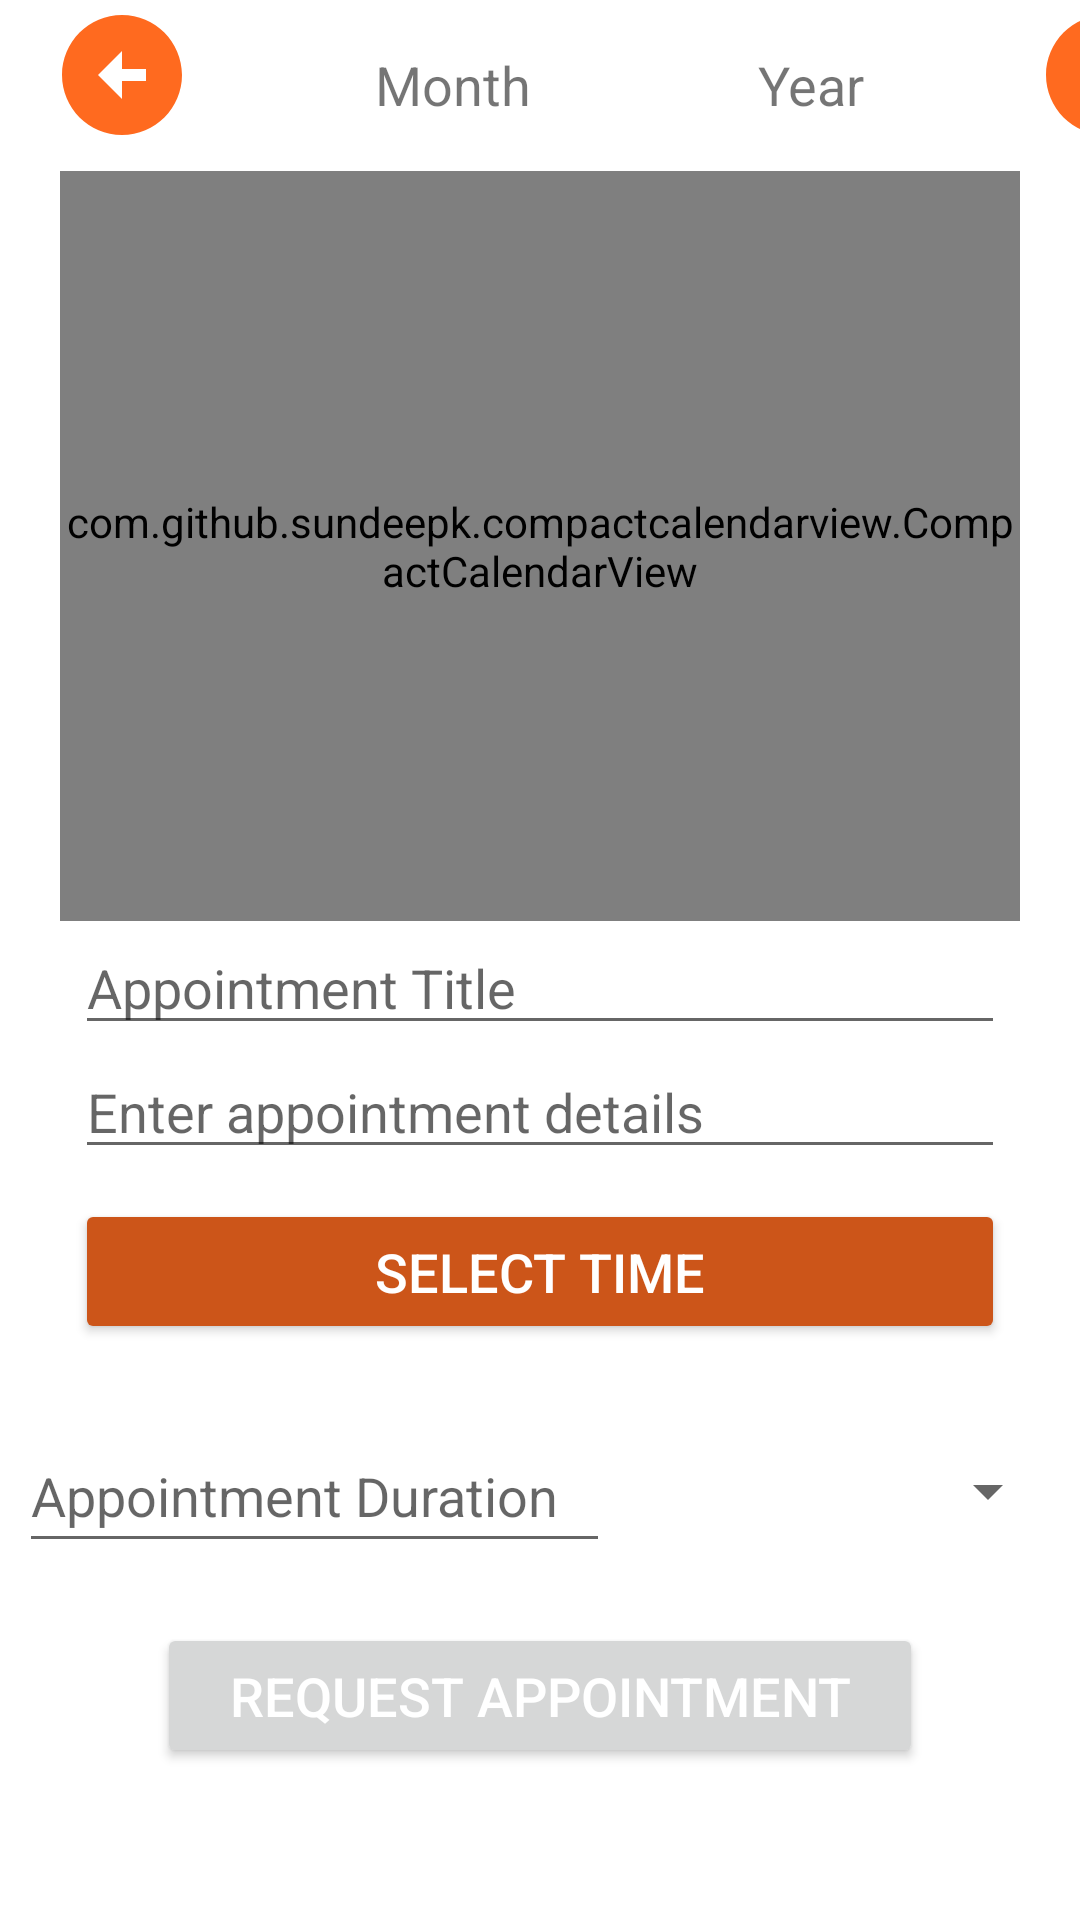

Screen size 1080*1920. Icon name, then its center in pixels as (x,y):
left button: (122,75)
